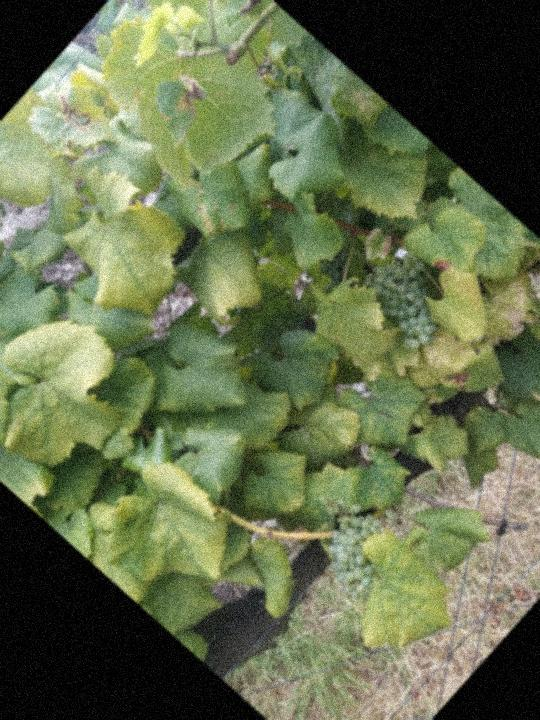grape: (347, 238, 471, 360), (305, 499, 413, 608)
